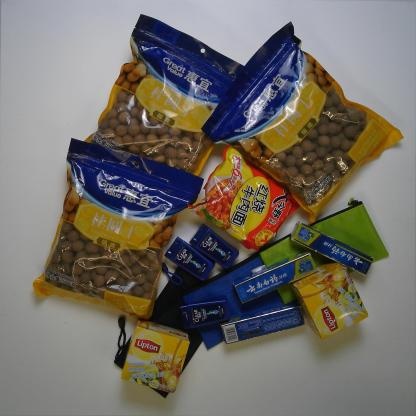Dried Food: (201, 21, 407, 223), (31, 136, 207, 323), (82, 12, 248, 186)
Instant Drink: (288, 260, 369, 340), (120, 317, 192, 395)
Instant Noodles: (187, 141, 299, 253)
Personal Hygiene: (290, 222, 376, 277), (233, 251, 319, 304), (220, 303, 305, 344), (164, 236, 217, 282), (189, 224, 240, 270), (180, 298, 231, 328)
Stationery: (259, 198, 390, 302), (113, 264, 202, 399), (180, 242, 286, 351)
